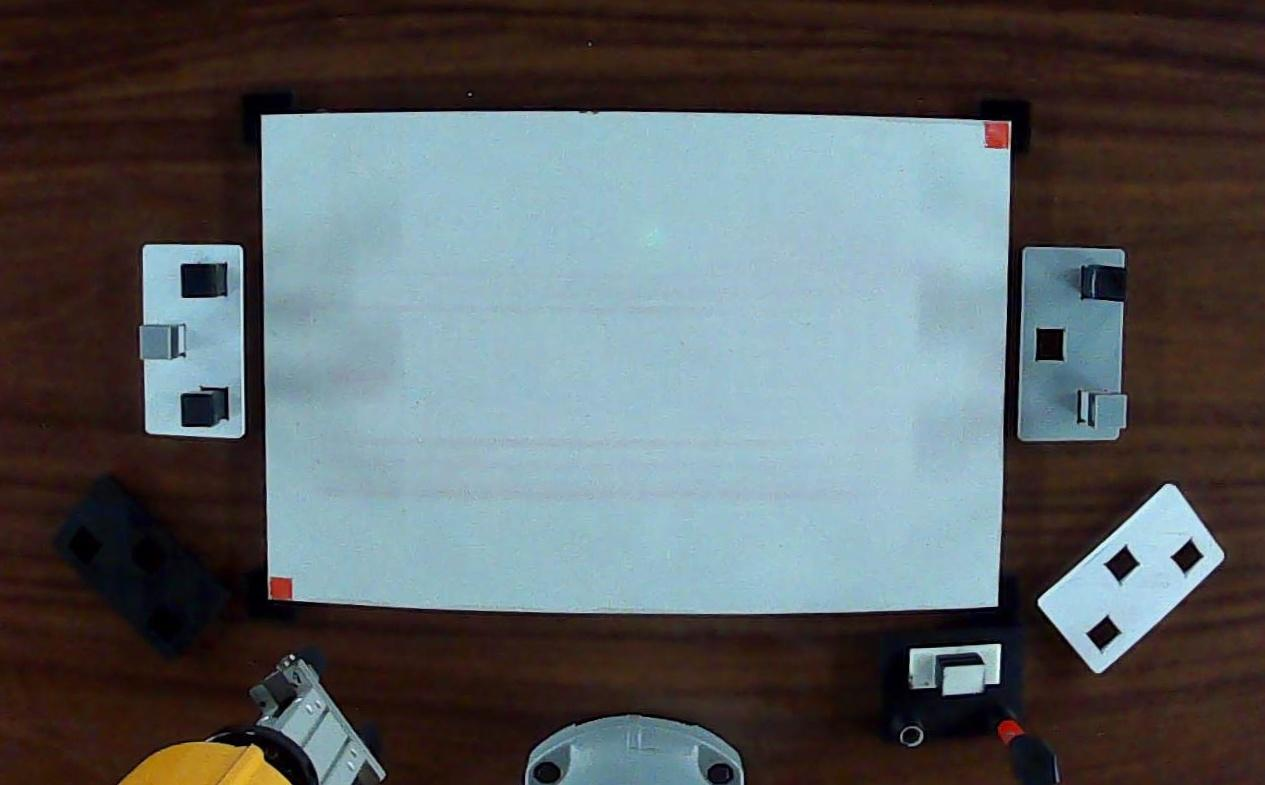pecaCinza: (1078, 383, 1131, 436), (135, 318, 183, 367)
pecaPreta: (1083, 258, 1134, 307), (177, 259, 228, 304), (175, 388, 221, 432)
